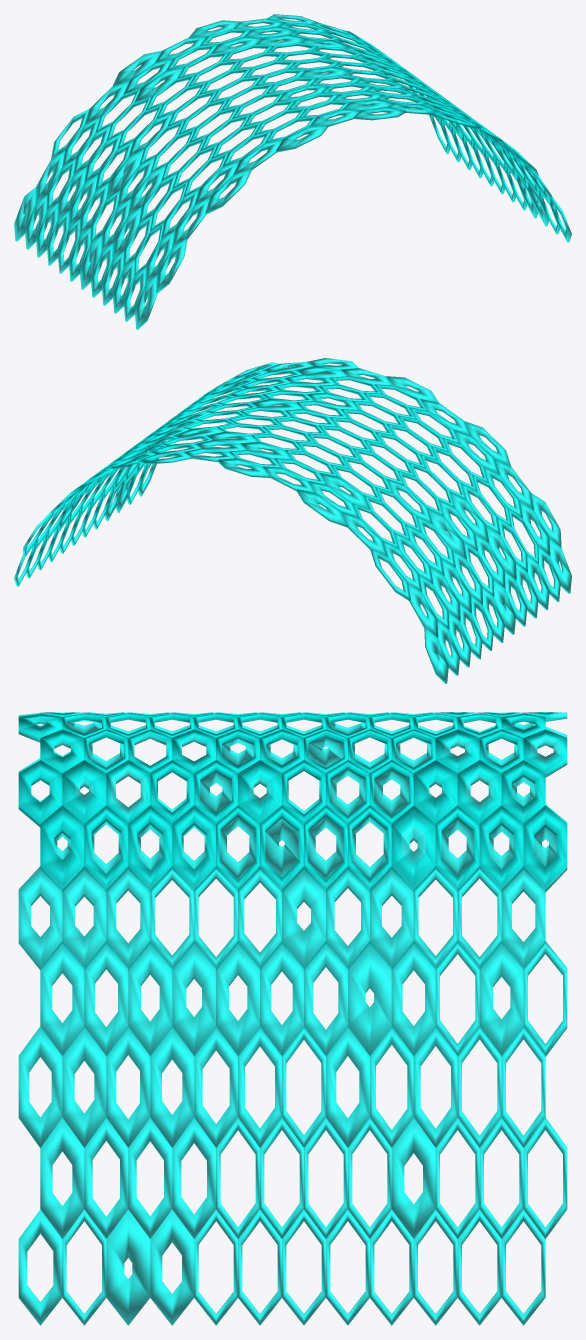
The picture shows the model from 3 angles, top to bottom: view 1: azimuth 30°, elevation 25°; view 2: azimuth 150°, elevation 25°; view 3: azimuth 270°, elevation 25°; orthographic projection. The views are drawn at different scales.
Visible parts, largest first — view 1: [0,120,0], [0,144,0], [0,132,0], [0,138,0], [0,156,0], [0,96,0], [0,136,0], [0,148,0], [0,155,0], [0,119,0], [0,108,0], [0,131,0] (+40 smaller); view 2: [0,119,0], [0,167,0], [0,155,0], [0,131,0], [0,138,0], [0,136,0], [0,148,0], [0,132,0], [0,153,0], [0,117,0], [0,152,0], [0,120,0] (+49 smaller); view 3: [0,2,0], [0,43,0], [0,20,0], [0,39,0], [0,25,0], [0,46,0], [0,12,0], [0,27,0], [0,38,0], [0,40,0], [0,3,0], [0,24,0] (+95 smaller).
Boxes of the visible parts, x1,y1,x2,y2 form: [0,120,0]: (205, 169, 251, 214); [0,144,0]: (156, 239, 187, 293); [0,132,0]: (171, 197, 209, 247); [0,138,0]: (106, 149, 144, 199); [0,156,0]: (134, 275, 157, 329); [0,96,0]: (276, 124, 328, 152); [0,136,0]: (128, 165, 165, 215); [0,148,0]: (112, 207, 141, 260); [0,155,0]: (35, 150, 64, 203); [0,119,0]: (113, 50, 162, 86); [0,108,0]: (233, 139, 283, 174); [0,131,0]: (84, 80, 129, 124); [0,119,0]: (296, 489, 348, 527); [0,167,0]: (424, 628, 448, 683); [0,155,0]: (408, 583, 438, 637); [0,131,0]: (342, 511, 387, 556); [0,138,0]: (428, 508, 466, 559); [0,136,0]: (450, 491, 489, 542); [0,148,0]: (486, 525, 516, 580); [0,132,0]: (495, 458, 533, 509); [0,153,0]: (430, 566, 460, 621); [0,117,0]: (319, 473, 370, 509); [0,152,0]: (441, 558, 471, 612); [0,120,0]: (465, 421, 511, 466); [0,2,0]: (106, 1209, 150, 1325); [0,43,0]: (348, 941, 391, 1055); [0,20,0]: (391, 1117, 435, 1238); [0,39,0]: (172, 941, 215, 1055); [0,25,0]: (62, 1026, 106, 1147); [0,46,0]: (479, 941, 523, 1055); [0,12,0]: (40, 1117, 84, 1238); [0,27,0]: (150, 1026, 194, 1147); [0,38,0]: (128, 941, 172, 1055); [0,40,0]: (216, 941, 259, 1055); [0,3,0]: (150, 1209, 194, 1325); [0,24,0]: (18, 1026, 62, 1147).
Bounding box in the file's own units: 3.9 × 1.55 × 2.17.
